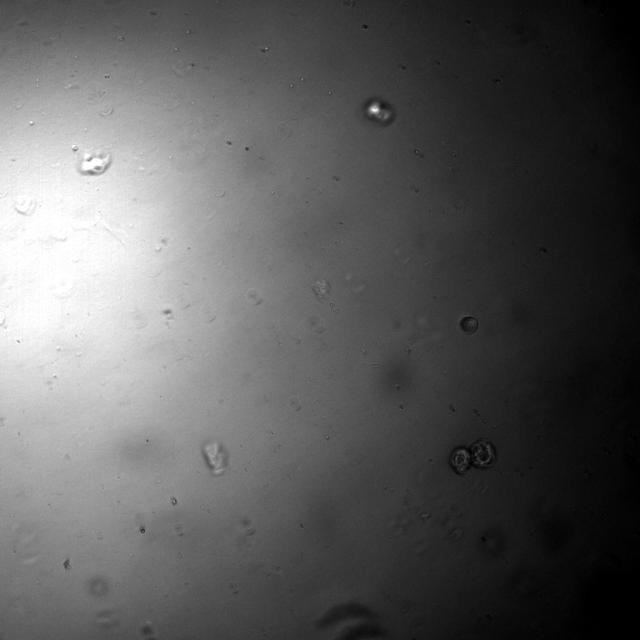organoid: (449, 438, 496, 474), (362, 98, 395, 126), (202, 440, 228, 475), (79, 149, 111, 175), (459, 316, 478, 334)
